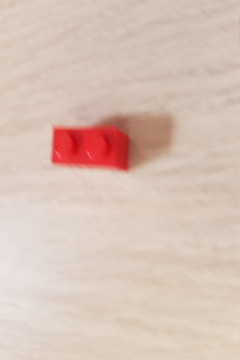1x2 red: (50, 125, 132, 173)
